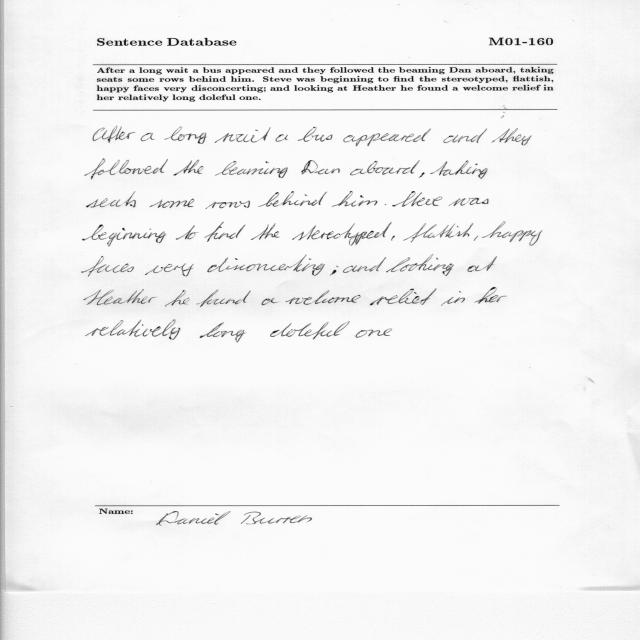word: (207, 255, 325, 276), (292, 222, 392, 246), (86, 320, 181, 340), (83, 225, 167, 247), (85, 159, 168, 180), (344, 129, 432, 147), (386, 254, 454, 276), (482, 222, 542, 246), (270, 322, 350, 340), (403, 223, 473, 242), (214, 161, 288, 178), (84, 289, 157, 305), (285, 290, 361, 305), (370, 289, 437, 306), (82, 256, 134, 277), (259, 191, 327, 207), (350, 160, 420, 175), (430, 161, 488, 179), (200, 323, 246, 343), (197, 290, 251, 307), (215, 127, 271, 143), (86, 191, 136, 208), (205, 222, 246, 242), (392, 191, 442, 207), (164, 126, 207, 144), (332, 191, 378, 207), (93, 126, 136, 143), (491, 128, 532, 145), (343, 257, 386, 273), (145, 264, 194, 277), (443, 129, 487, 143), (301, 160, 340, 174), (475, 287, 507, 304), (298, 127, 333, 142), (251, 223, 280, 240), (174, 160, 204, 176), (468, 256, 497, 272), (150, 199, 195, 208), (205, 200, 250, 209), (165, 290, 190, 306), (441, 291, 465, 306), (356, 328, 392, 338), (176, 225, 198, 240), (449, 198, 489, 206), (141, 133, 155, 141), (262, 298, 278, 305), (275, 134, 288, 142), (330, 266, 338, 276), (419, 172, 425, 178), (474, 236, 479, 241), (391, 235, 395, 241), (385, 204, 386, 205)
